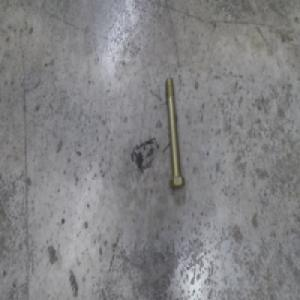Bolt: (164, 74, 185, 188)
